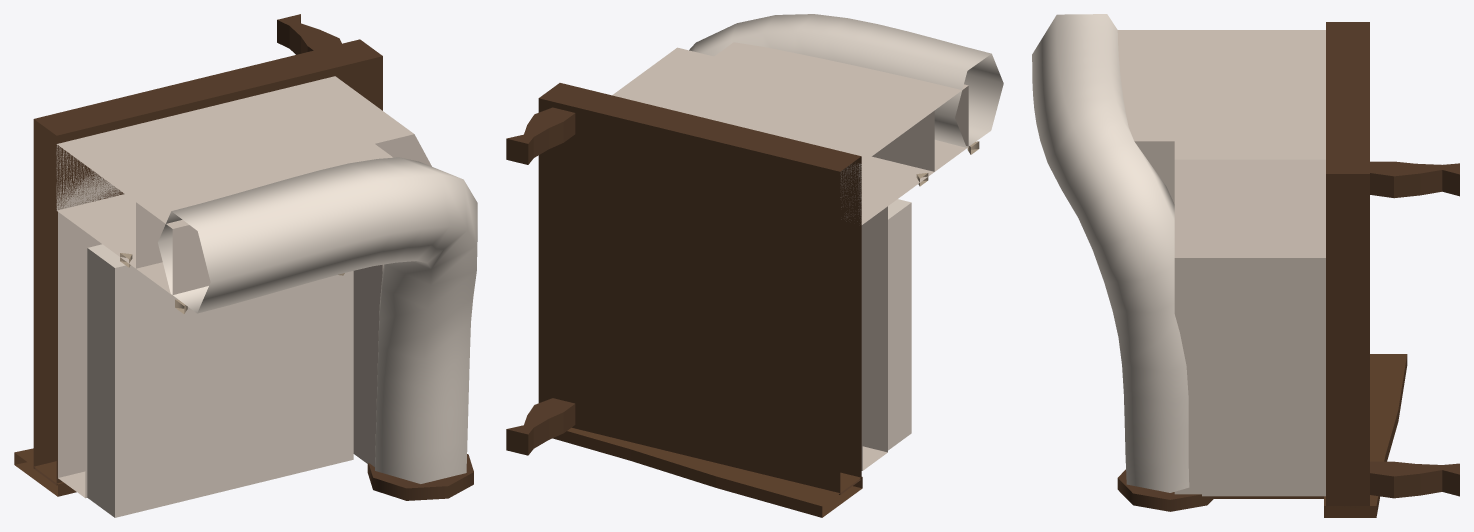
The model's file is section-5.obj.
The picture shows the model from 3 angles, left to right: view 1: azimuth 30°, elevation 25°; view 2: azimuth 150°, elevation 25°; view 3: azimuth 270°, elevation 25°; orthographic projection. The views are drawn at different scales.
Size of the model in its own units: 0.83 by 0.8922 by 0.975.
Materials: 1 (1 with a texture image).
